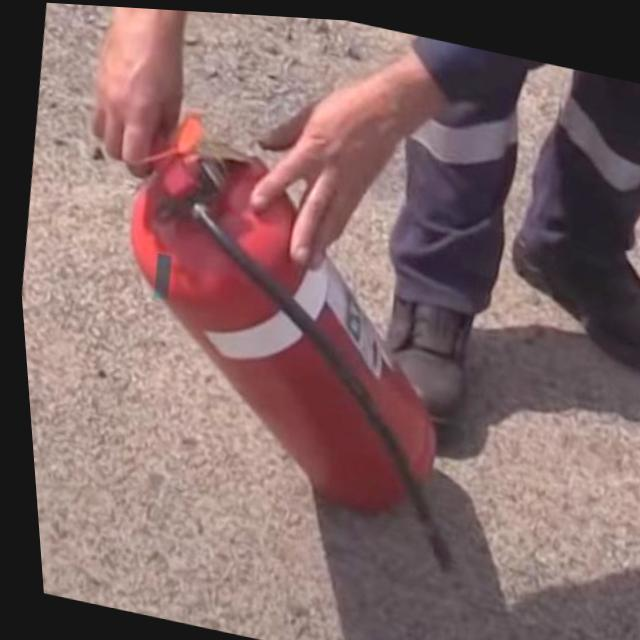FireExtinguisher: (60, 89, 525, 583)
